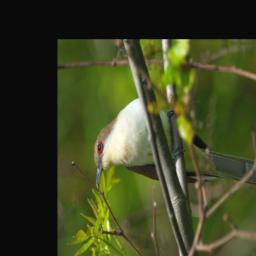Cuckoo: (92, 92, 256, 194)
